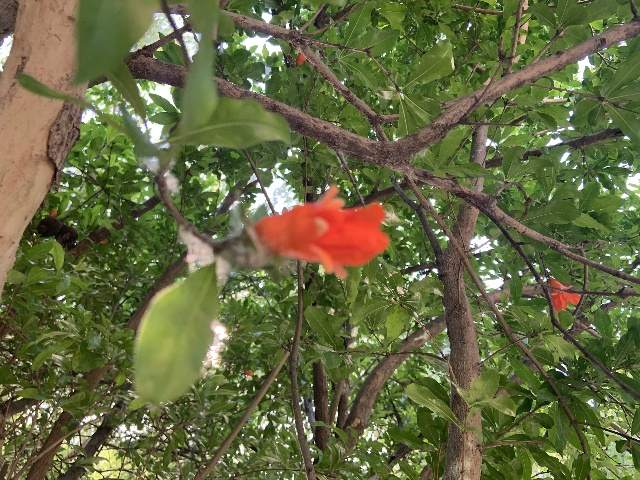bud: (295, 51, 305, 65)
flower: (254, 184, 389, 278), (548, 277, 580, 311)
